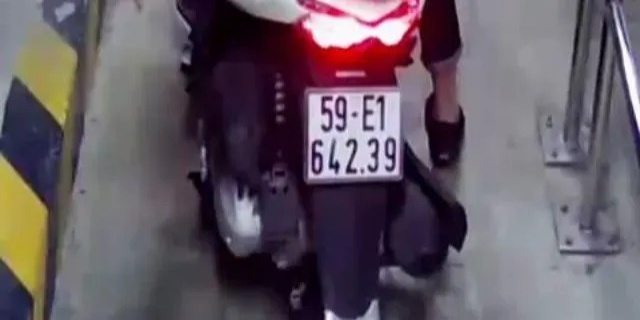bien_so: (305, 85, 403, 183)
